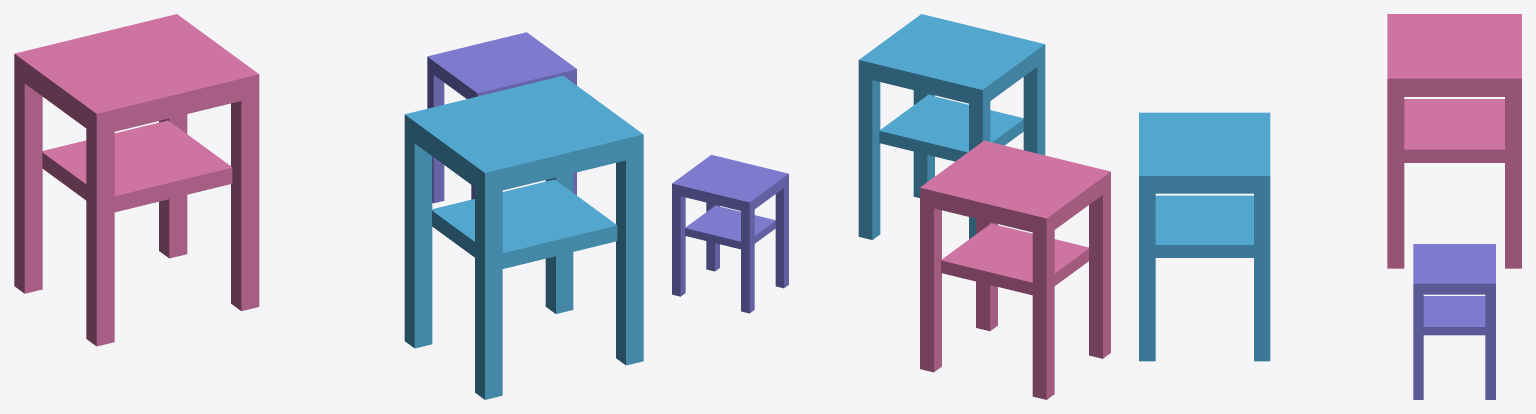
Rendered from chairs_scene.glb.
The picture shows the model from 3 angles, left to right: view 1: azimuth 30°, elevation 25°; view 2: azimuth 150°, elevation 25°; view 3: azimuth 270°, elevation 25°; orthographic projection. The views are drawn at different scales.
Parts seen in each view (by area): view 1: Cube.002, Cube.003, Cube.001; view 2: Cube.002, Cube.003, Cube.001; view 3: Cube.002, Cube.003, Cube.001.
Boxes of the visible parts, left/top/right/bottom form: Cube.002: left=14, top=14, right=259, bottom=346; Cube.003: left=404, top=75, right=643, bottom=399; Cube.001: left=427, top=32, right=576, bottom=203; Cube.002: left=920, top=140, right=1110, bottom=399; Cube.003: left=858, top=14, right=1045, bottom=239; Cube.001: left=672, top=155, right=788, bottom=313; Cube.002: left=1387, top=14, right=1521, bottom=268; Cube.003: left=1139, top=112, right=1270, bottom=361; Cube.001: left=1413, top=244, right=1495, bottom=399.
Size of what is drawn, in the model's own units: 7.71 by 3.45 by 6.3.
